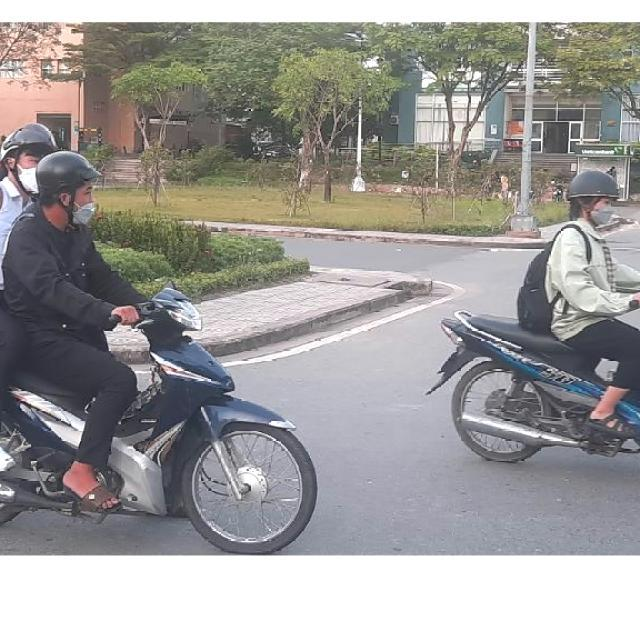Helmet: (38, 153, 100, 229), (0, 122, 50, 188), (568, 168, 619, 223)
